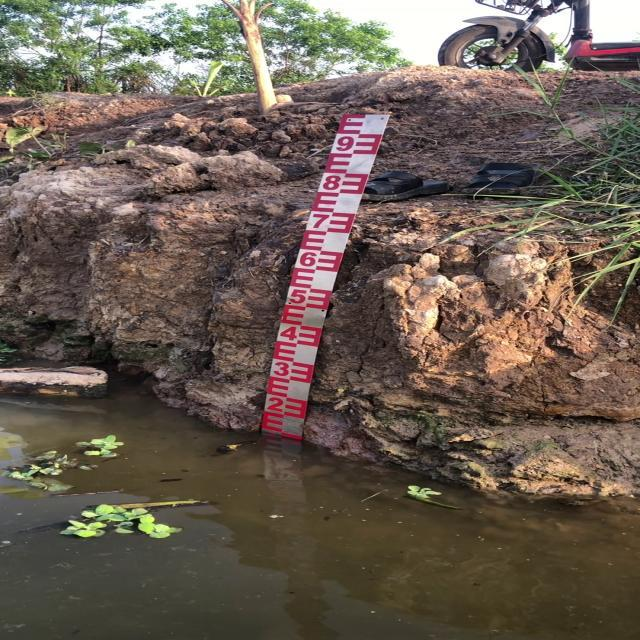ruler: (251, 104, 393, 452)
value: (318, 171, 344, 196), (333, 132, 358, 156), (284, 283, 308, 308), (263, 391, 287, 416), (306, 209, 332, 232), (296, 248, 320, 271), (276, 321, 300, 344), (269, 357, 292, 380)
